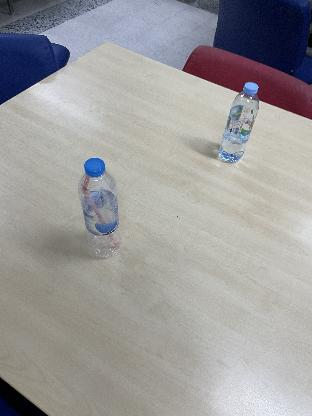Plastic Bottle: (78, 158, 123, 260), (218, 80, 260, 164)
